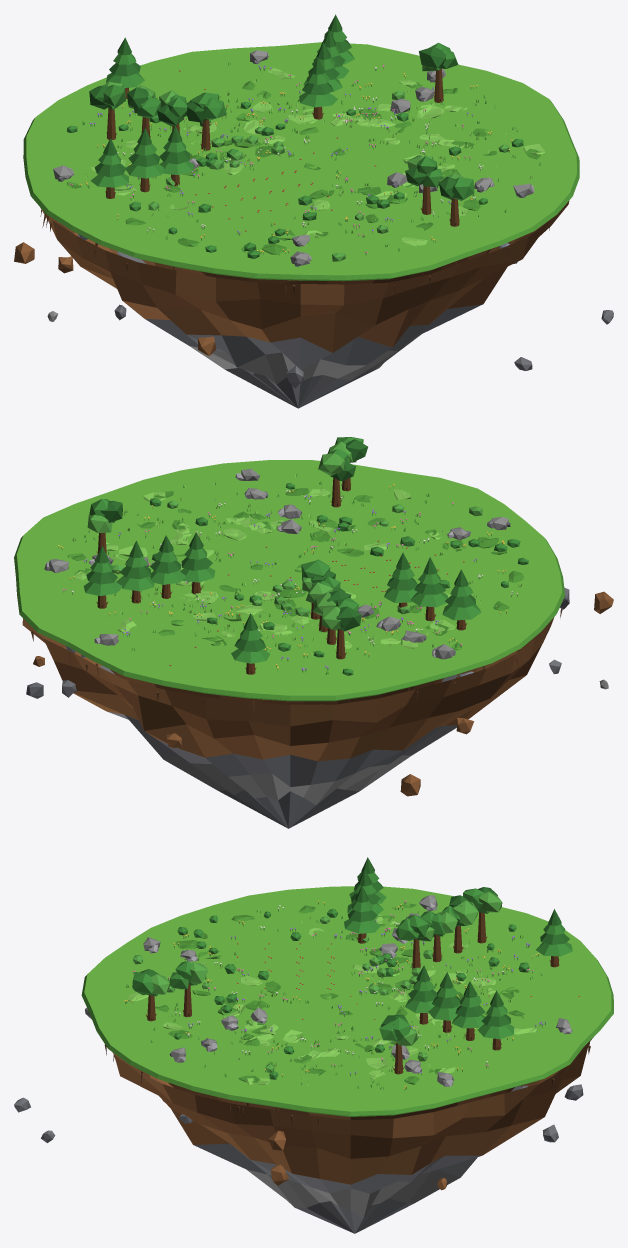
The model's file is Islands.fbx.
3 renders of one model, top to bottom at view 1: azimuth 30°, elevation 25°; view 2: azimuth 150°, elevation 25°; view 3: azimuth 270°, elevation 25°, orthographic. The views are drawn at different scales.
Parts seen in each view (by area): view 1: GrassTop_T4, IslandBody_T4, GrassTop_T3, GrassTop_T1, GrassTop_T2, Decor_T4, Decor_T3, Decor_T2, IslandBody_T3, Decor_T1, TreeLeaves_3_T3, TreeLeaves_2_T1 (+12 smaller); view 2: GrassTop_T4, IslandBody_T4, GrassTop_T3, GrassTop_T2, GrassTop_T1, Decor_T4, Decor_T3, Decor_T2, IslandBody_T3, TreeLeaves_3_T4, TreeLeaves_6_T4, TreeLeaves_2_T4 (+11 smaller); view 3: GrassTop_T4, IslandBody_T4, GrassTop_T3, GrassTop_T2, GrassTop_T1, Decor_T4, Decor_T3, Decor_T2, IslandBody_T3, Decor_T1, TreeLeaves_2_T4, TreeLeaves_3_T2 (+12 smaller).
Part boxes in pixels (<box>): GrassTop_T4: <box>23,42,579,281</box>; IslandBody_T4: <box>40,201,569,408</box>; GrassTop_T3: <box>87,66,527,255</box>; GrassTop_T1: <box>183,100,437,215</box>; GrassTop_T2: <box>134,82,478,237</box>; Decor_T4: <box>14,62,613,388</box>; Decor_T3: <box>58,80,489,273</box>; Decor_T2: <box>157,91,517,263</box>; IslandBody_T3: <box>142,249,490,284</box>; Decor_T1: <box>193,111,424,210</box>; TreeLeaves_3_T3: <box>126,128,163,178</box>; TreeLeaves_2_T1: <box>299,57,337,107</box>; GrassTop_T4: <box>14,460,565,701</box>; IslandBody_T4: <box>22,609,562,828</box>; GrassTop_T3: <box>63,481,510,673</box>; GrassTop_T2: <box>112,502,466,652</box>; GrassTop_T1: <box>153,520,421,634</box>; Decor_T4: <box>58,473,613,796</box>; Decor_T3: <box>26,495,482,734</box>; Decor_T2: <box>152,511,449,748</box>; IslandBody_T3: <box>110,669,443,704</box>; TreeLeaves_3_T4: <box>442,569,481,620</box>; TreeLeaves_6_T4: <box>231,613,269,663</box>; TreeLeaves_2_T4: <box>83,546,122,596</box>; GrassTop_T4: <box>81,886,613,1116</box>; IslandBody_T4: <box>88,1012,593,1233</box>; GrassTop_T3: <box>135,909,566,1090</box>; GrassTop_T2: <box>179,923,522,1068</box>; GrassTop_T1: <box>220,941,477,1051</box>; Decor_T4: <box>14,900,568,1142</box>; Decor_T3: <box>168,914,583,1190</box>; Decor_T2: <box>179,932,487,1123</box>; IslandBody_T3: <box>168,1082,514,1120</box>; Decor_T1: <box>241,947,445,1046</box>; TreeLeaves_2_T4: <box>478,990,514,1039</box>; TreeLeaves_3_T2: <box>344,886,380,933</box>.
Size of the model in its own units: 97.47 by 54.41 by 99.75.
Materials: 1 (1 with a texture image).
